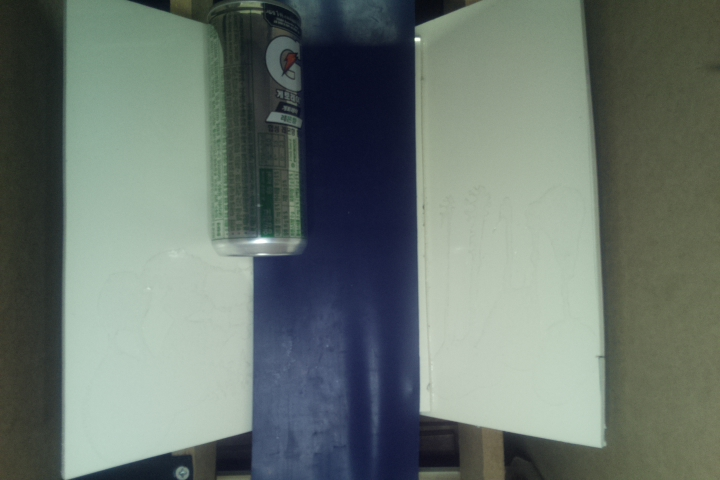can: (213, 4, 306, 261)
